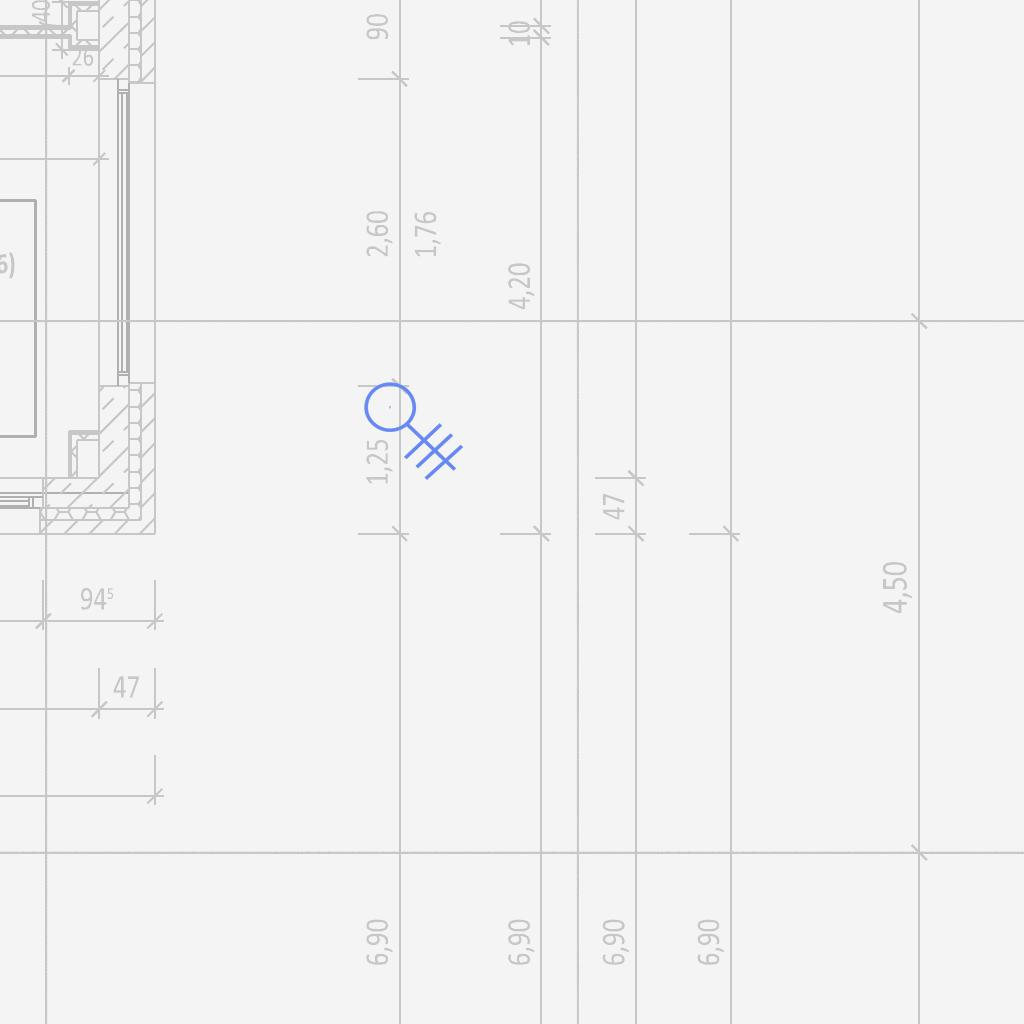Elektroanschluss_allgemein_400V_Geraeteanschlussdose_400V: (363, 365, 476, 481)
